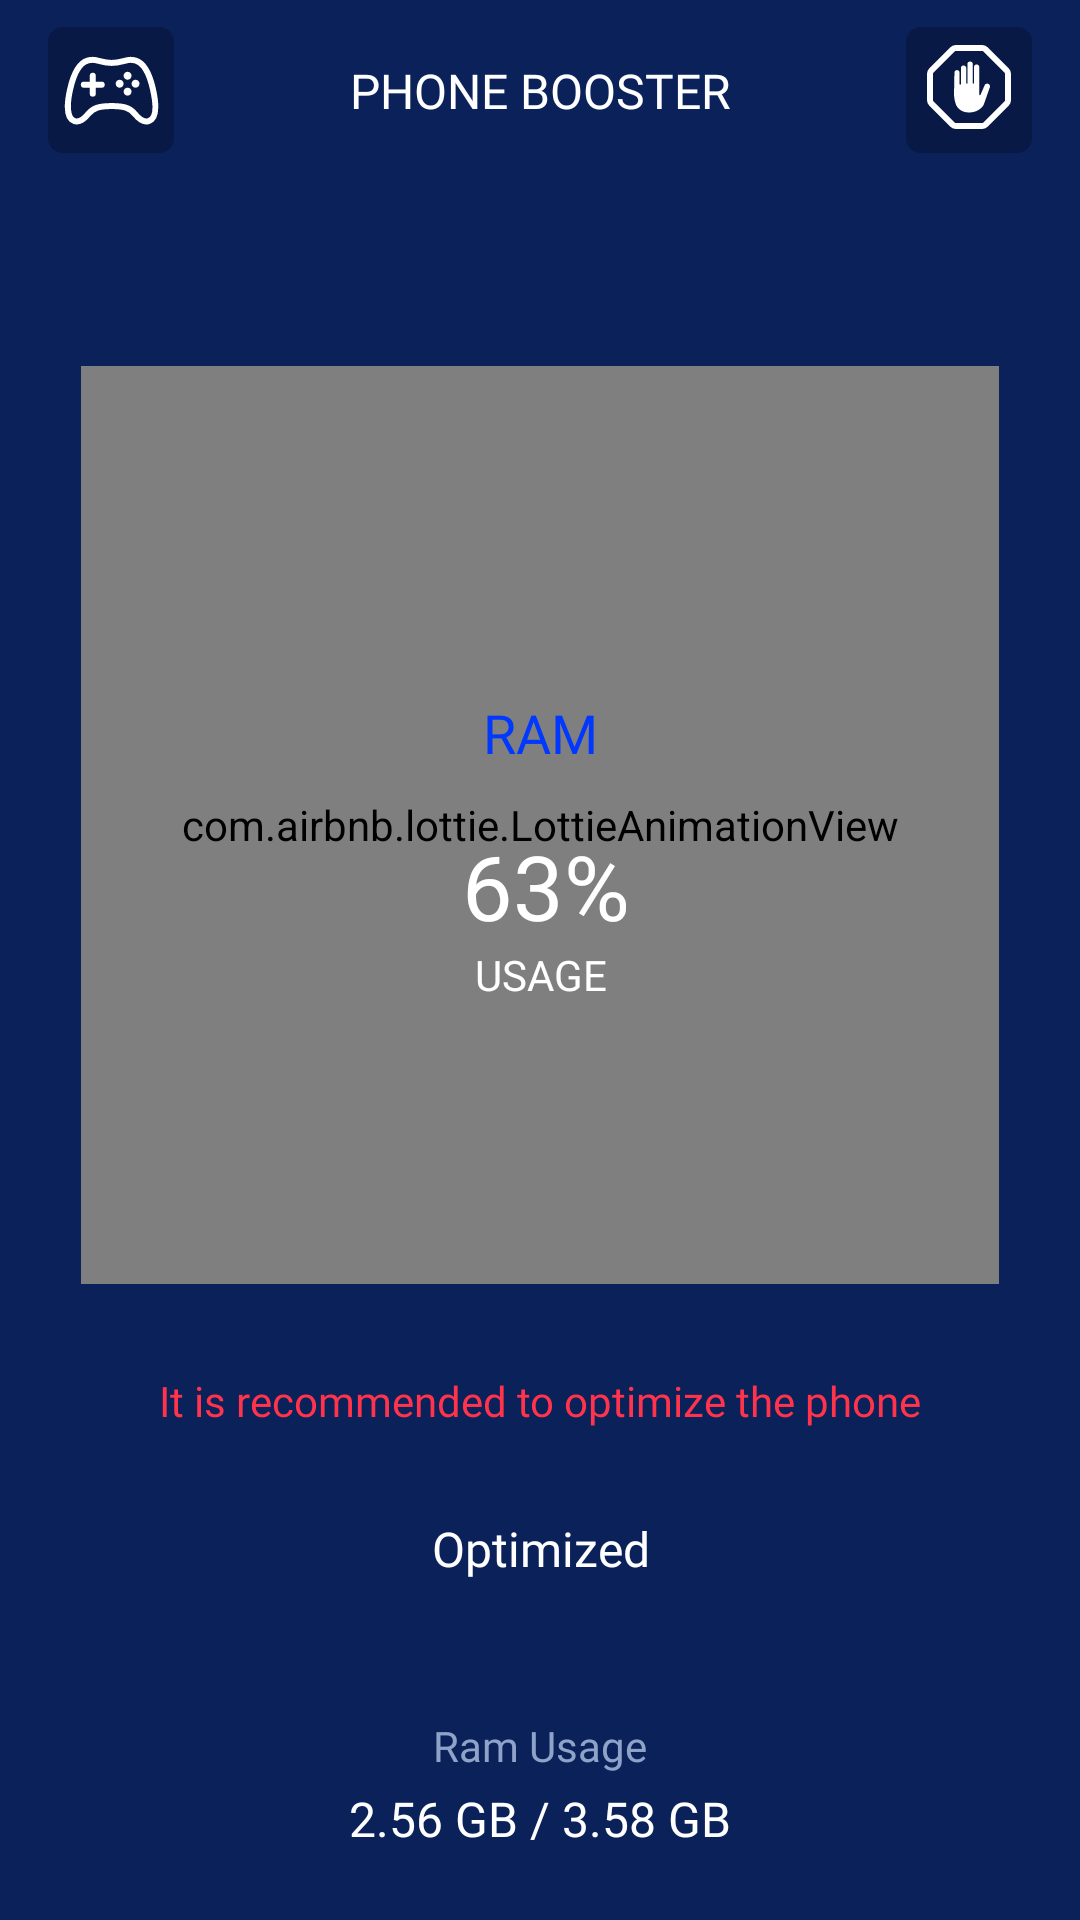

Named icons in this screenshot (1080x1920) and their centers, (x=x, y=y):
game: (x=111, y=90)
